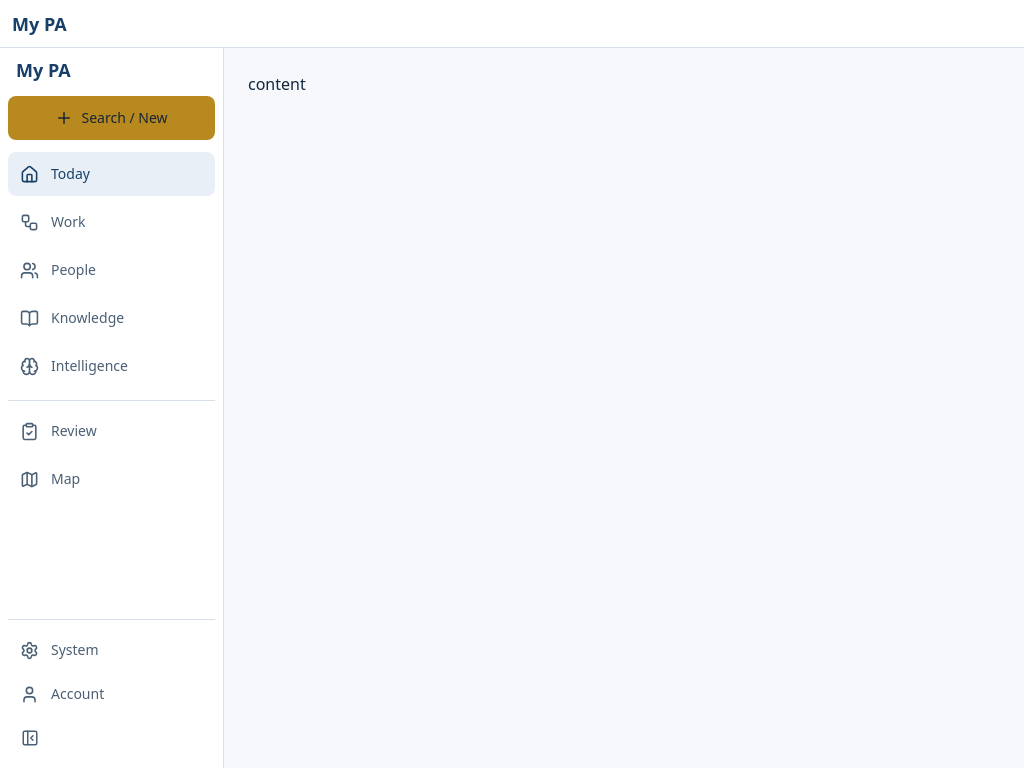
Test: the unified launcher New menu › routes Quick Note into the canonical Capture composition
What coordinates should you click on to do the following:
click the button with test id "launcher-button-desktop"
I would click on:
 (112, 118)
Its box is top-left (8, 96), bottom-right (215, 140).
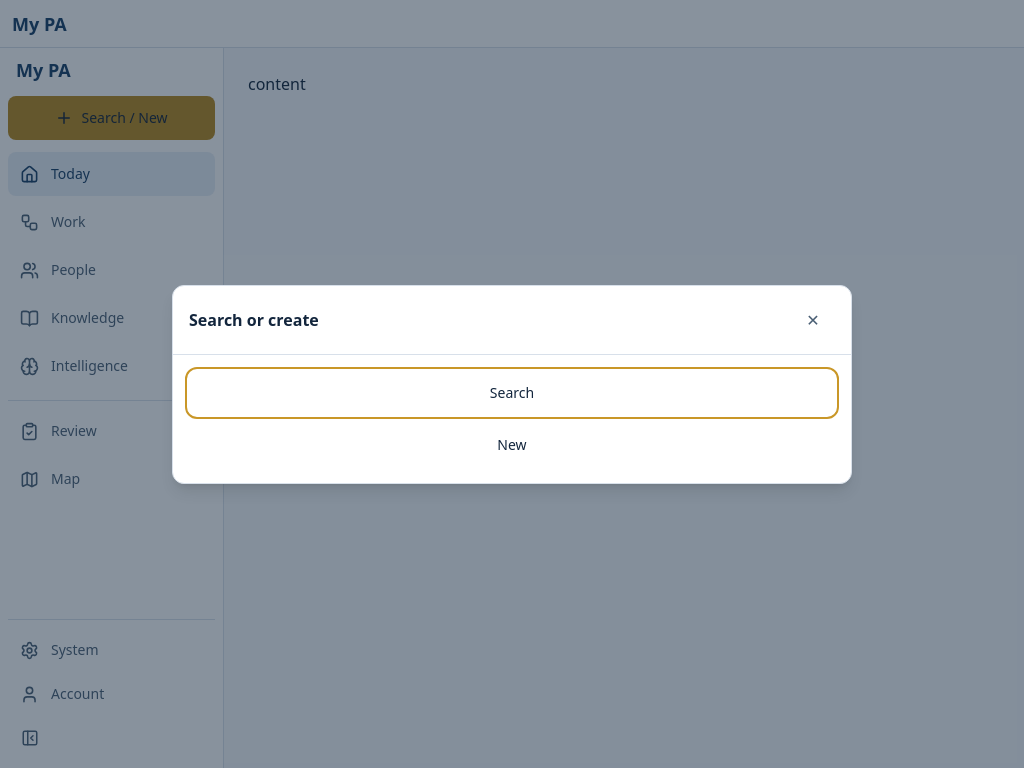
What coordinates should you click on to do the following:
click the button "New"
I would click on:
 (512, 444)
Its box is top-left (189, 422), bottom-right (835, 466).
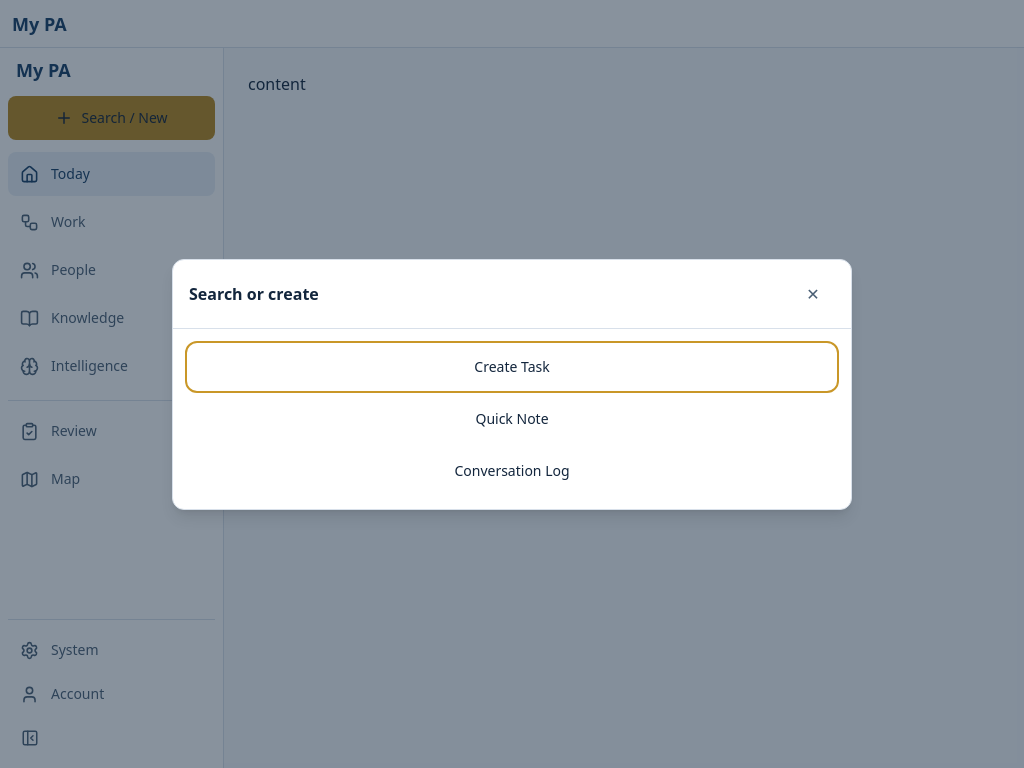
What coordinates should you click on to do the following:
click the button "Quick Note"
I would click on:
 (512, 418)
Its box is top-left (189, 396), bottom-right (835, 440).
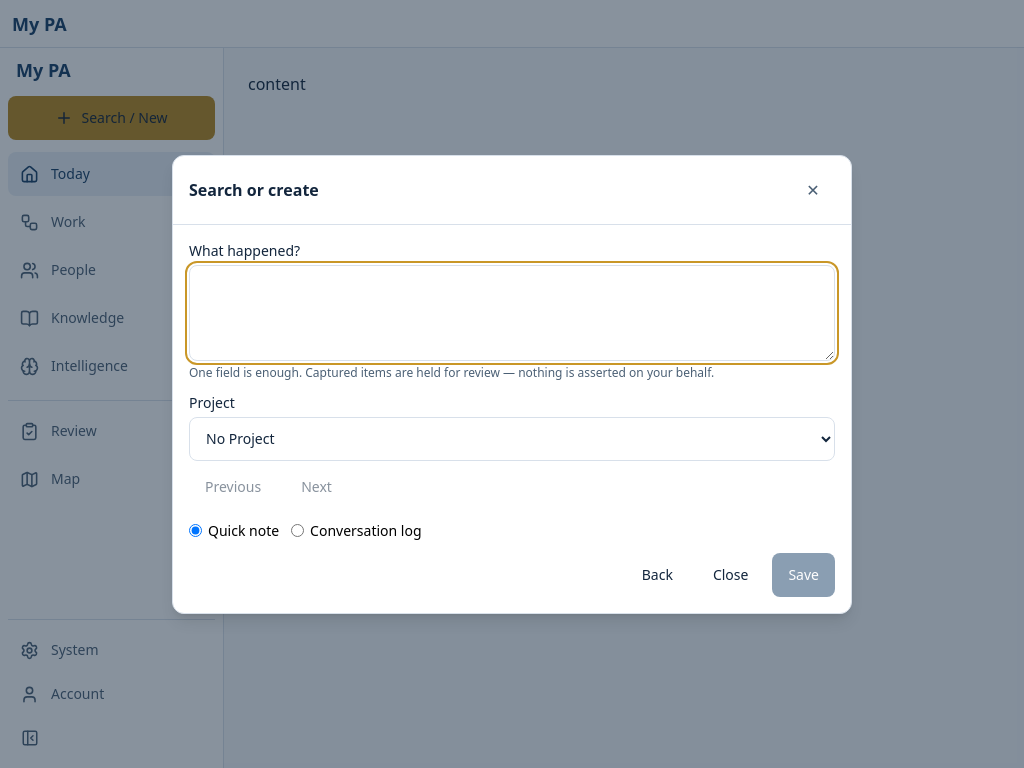
Now the radio button with test id "capture-kind-quick_note" is checked, box top-left (189, 524), bottom-right (202, 537)
